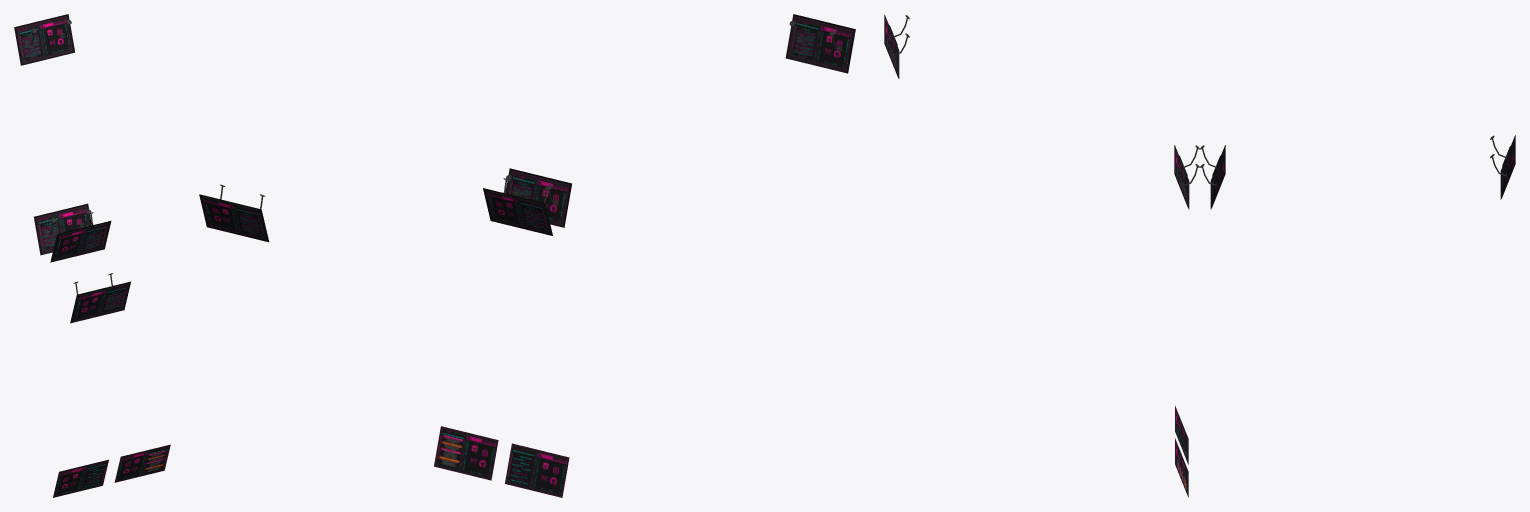
Rendered from Tvs2.glb.
3 renders of one model, left to right at view 1: azimuth 30°, elevation 25°; view 2: azimuth 150°, elevation 25°; view 3: azimuth 270°, elevation 25°, orthographic. The views are drawn at different scales.
Visible parts, largest first — view 1: TELA_01, TELA_EXP, TELA_SKILLS, TELA_02, TELA_04, TELA_ABOUT, TV_01, TV_03, TV_04, TV_02; view 2: TELA_SKILLS, TELA_EXP, TELA_04, TELA_ABOUT, TELA_01, TELA_02; view 3: no part large enough to name.
Part boxes in pixels (box(x1,y1,x2,y2)): TELA_01: box(16, 16, 72, 63); TELA_EXP: box(114, 444, 170, 482); TELA_SKILLS: box(53, 459, 108, 497); TELA_02: box(36, 206, 89, 252); TELA_04: box(73, 284, 128, 321); TELA_ABOUT: box(53, 223, 108, 260); TV_01: box(14, 14, 75, 65); TV_03: box(50, 221, 111, 262); TV_04: box(70, 281, 130, 323); TV_02: box(34, 203, 91, 255); TELA_SKILLS: box(505, 443, 569, 497); TELA_EXP: box(434, 426, 498, 480); TELA_04: box(788, 16, 852, 70); TELA_ABOUT: box(508, 171, 569, 225); TELA_01: box(202, 197, 265, 240); TELA_02: box(486, 191, 549, 233).
Size of what is drawn, in the model's own units: 20.58 by 23.56 by 36.74.
5 materials, 3 textured.
